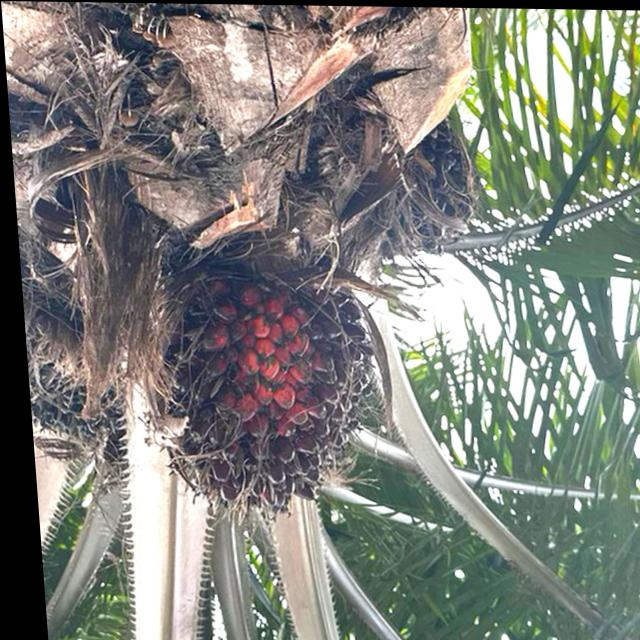ripe: (118, 251, 398, 552)
